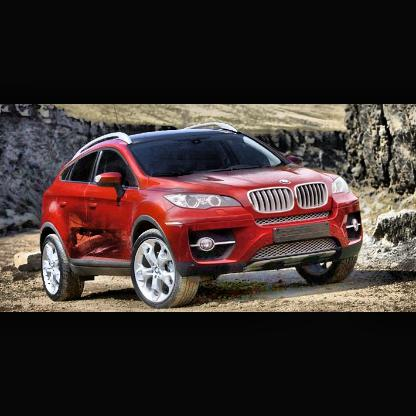BMW X6 SUV 2012: (38, 122, 371, 311)
